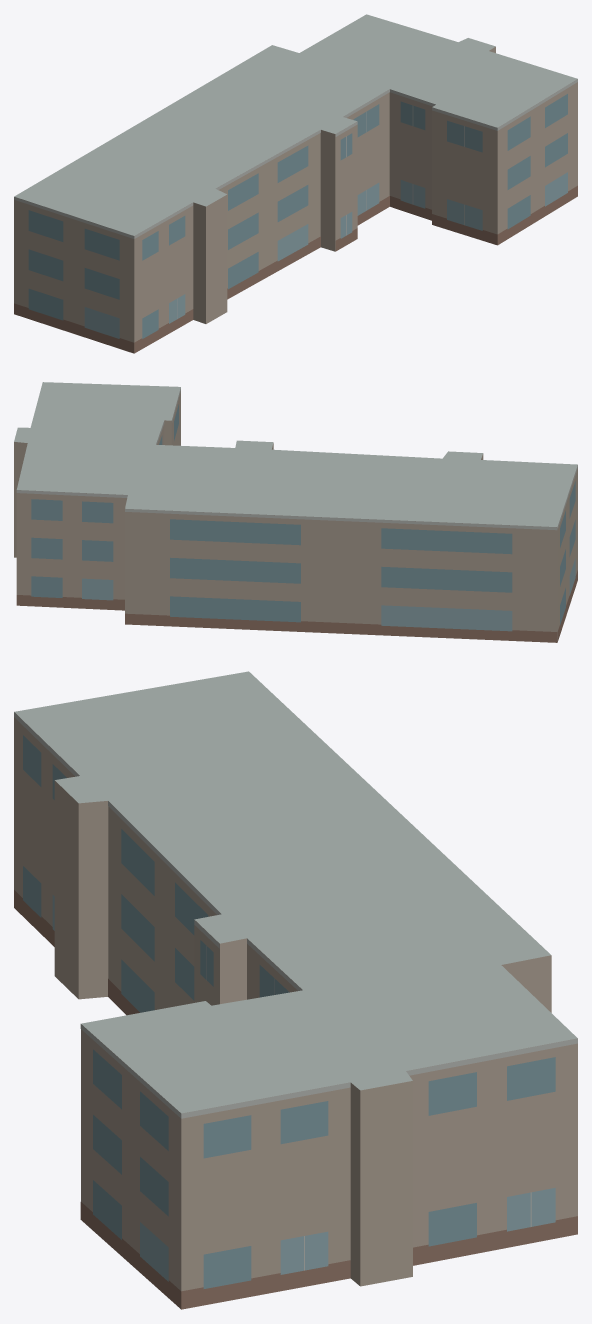
The model's file is survey-upis-32908412.glb.
3 views of the same model, one above another, from view 1: azimuth 30°, elevation 25°; view 2: azimuth 150°, elevation 25°; view 3: azimuth 270°, elevation 25° (orthographic). The views are drawn at different scales.
Visible parts, largest first — view 1: survey-upis-32908412.tmp; view 2: survey-upis-32908412.tmp; view 3: survey-upis-32908412.tmp.
Boxes of the visible parts, x1=… form: survey-upis-32908412.tmp: x1=14, y1=14, x2=577, y2=353; survey-upis-32908412.tmp: x1=14, y1=382, x2=577, y2=642; survey-upis-32908412.tmp: x1=14, y1=671, x2=577, y2=1309.
Size of the model in its own units: 44.27 by 9.15 by 23.86.
